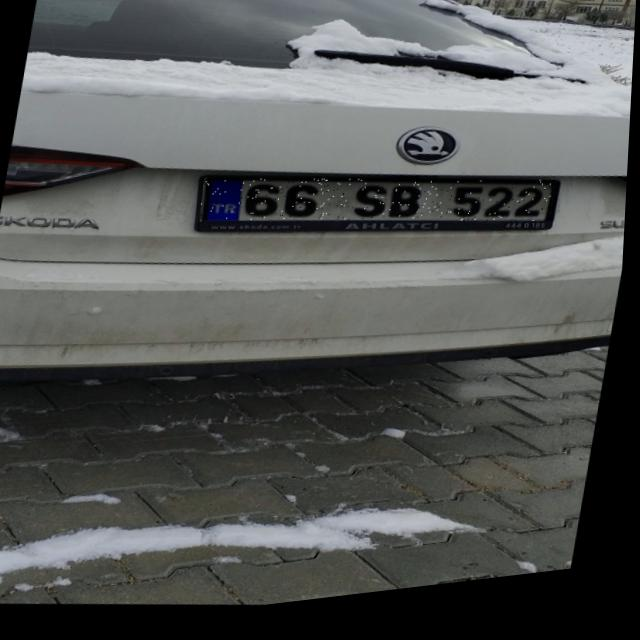license_plate: (199, 151, 559, 268)
